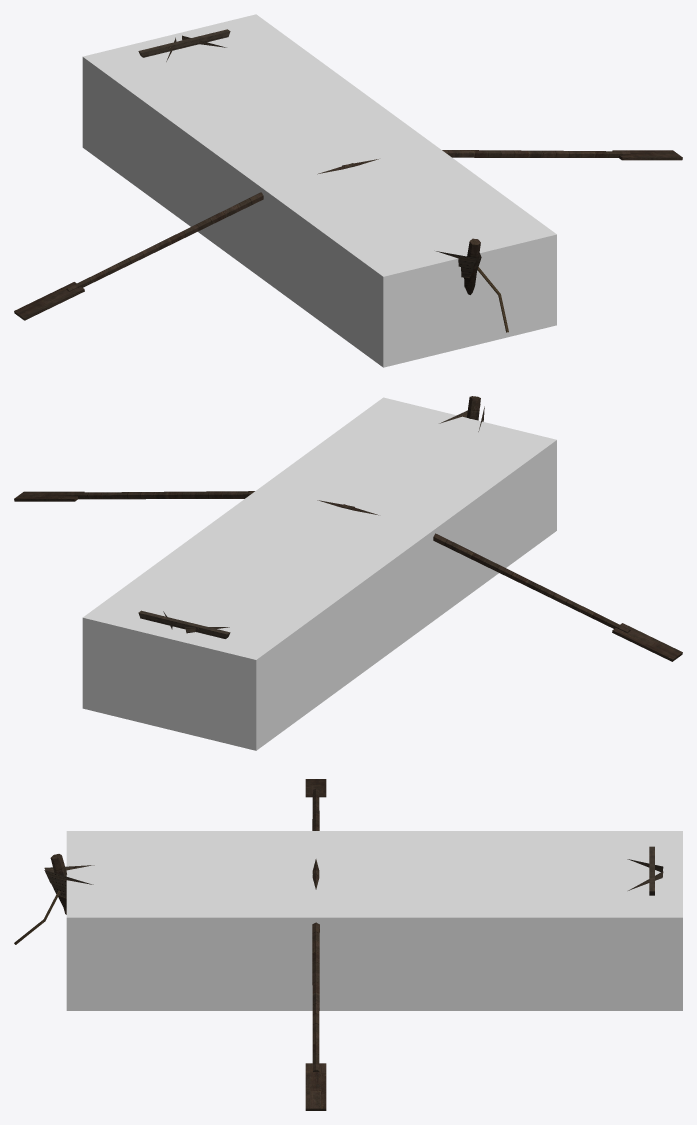
Rendered from rowboat_ferry.glb.
The picture shows the model from 3 angles, top to bottom: view 1: azimuth 30°, elevation 25°; view 2: azimuth 150°, elevation 25°; view 3: azimuth 270°, elevation 25°; orthographic projection. The views are drawn at different scales.
Visible parts, largest first — view 1: col_boat, oar_R, oar_L, hull; view 2: col_boat, oar_R, oar_L, hull; view 3: col_boat, oar_L, hull, oar_R.
Boxes of the visible parts, box(x1,y1,x2,y2) form: col_boat: box(82, 14, 556, 367); oar_R: box(14, 163, 354, 320); oar_L: box(342, 150, 682, 168); hull: box(138, 29, 508, 332); col_boat: box(82, 397, 556, 750); oar_R: box(342, 504, 682, 661); oar_L: box(14, 491, 354, 509); hull: box(138, 396, 484, 638); col_boat: box(66, 831, 682, 1010); oar_L: box(305, 869, 326, 1110); hull: box(14, 846, 663, 944); oar_R: box(305, 779, 326, 876).
Size of the model in its own units: 5.31 by 0.8438 by 4.56.
5 materials, 5 textured.
